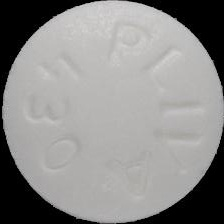53808-0722: (0, 0, 224, 224)
